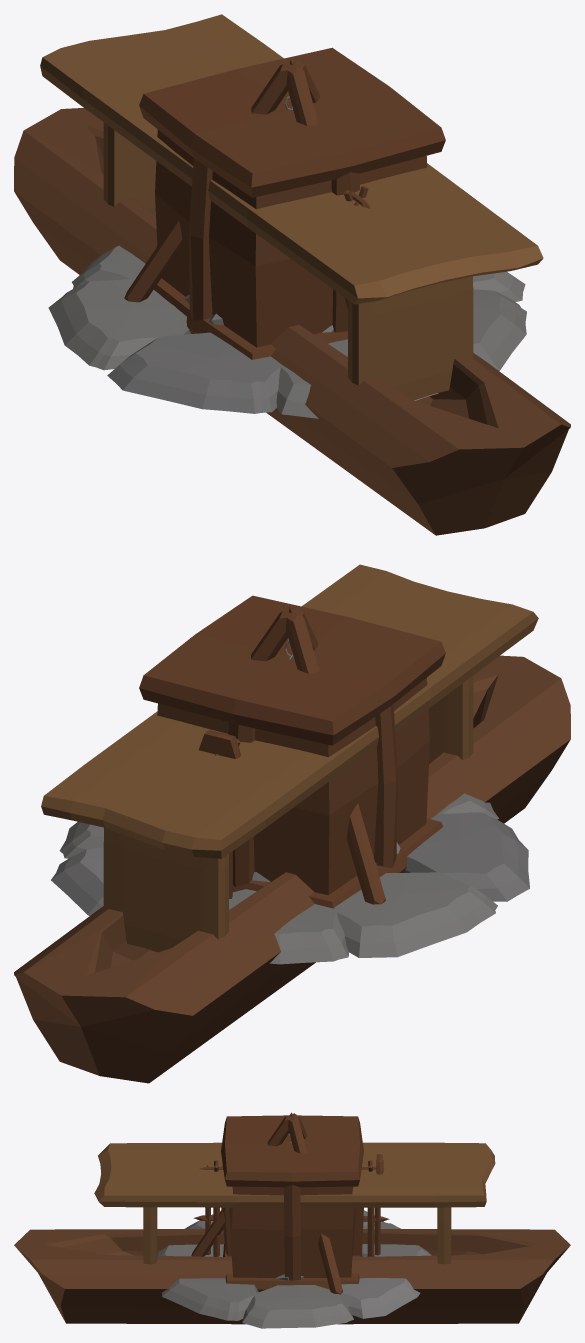
Rendered from decor.fbx.
3 renders of one model, top to bottom at view 1: azimuth 30°, elevation 25°; view 2: azimuth 150°, elevation 25°; view 3: azimuth 270°, elevation 25°, orthographic. The views are drawn at different scales.
Visible parts, largest first — view 1: Cylinder.060, Cube, Cube.012, Cube.010, Cube.008, Cube.003, Cube.005, Cube.009, Cube.001, Cube.013, Cylinder.015, Cube.011 (+5 smaller); view 2: Cylinder.060, Cube, Cube.012, Cube.010, Cube.009, Cube.005, Cube.003, Cube.006, Cylinder.015, Cube.013, Cube.008, Cube.007 (+6 smaller); view 3: Cylinder.060, Cube, Cube.012, Cube.010, Cube.004, Cube.001, Cube.007, Cube.013, Cylinder.016, Cube.011, Cylinder.014, Cube.008 (+6 smaller).
Part boxes in pixels (x1,y1,x2,y2): Cylinder.060: (14,108,570,535); Cube: (40,14,543,304); Cube.012: (139,47,445,197); Cube.010: (155,129,427,347); Cube.008: (348,276,473,400); Cube.003: (107,332,281,413); Cube.005: (48,279,190,370); Cube.009: (103,122,156,215); Cube.001: (473,289,526,370); Cube.013: (189,158,212,321); Cylinder.015: (124,59,296,302); Cube.011: (154,278,347,359); Cylinder.060: (14,655,570,1083); Cube: (41,564,538,858); Cube.012: (139,595,445,745); Cube.010: (157,677,429,894); Cube.009: (103,827,228,952); Cube.005: (334,872,497,957); Cube.003: (404,812,529,901); Cube.006: (229,889,348,964); Cylinder.015: (286,605,385,904); Cube.013: (374,704,397,867); Cube.008: (428,676,473,763); Cube.007: (51,847,103,915); Cylinder.060: (14,1229,570,1324); Cube: (94,1142,495,1207); Cube.012: (221,1115,363,1187); Cube.010: (229,1186,355,1277); Cube.004: (242,1285,353,1328); Cube.001: (162,1278,258,1320); Cube.007: (340,1278,420,1318); Cube.013: (284,1185,300,1280); Cylinder.016: (288,1112,342,1294); Cube.011: (223,1243,362,1291); Cylinder.014: (191,1113,294,1256); Cube.008: (143,1207,157,1264).
Bounding box in the file's own units: 445 × 342 × 869.
